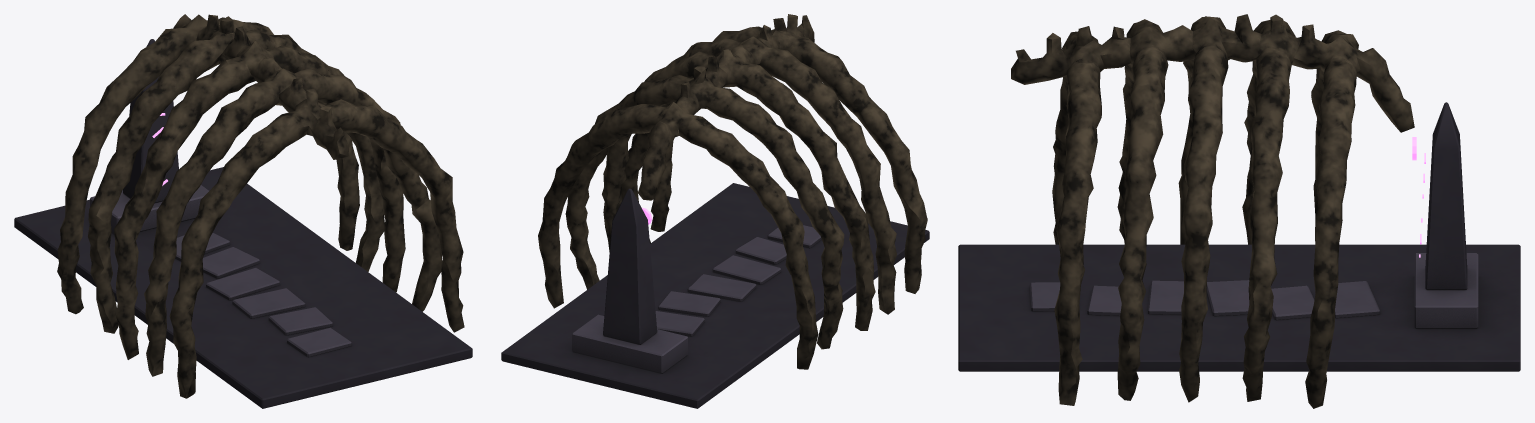
File: Arco_Costillas.fbx
3 renders of one model, left to right at view 1: azimuth 30°, elevation 25°; view 2: azimuth 150°, elevation 25°; view 3: azimuth 270°, elevation 25°, orthographic. The views are drawn at different scales.
Visible parts, largest first — view 1: Arco_Costillas, Arco_Costillas_Altar; view 2: Arco_Costillas, Arco_Costillas_Altar; view 3: Arco_Costillas, Arco_Costillas_Altar.
Boxes of the visible parts, x1,y1,x2,y2 form: Arco_Costillas: (57,14,464,398); Arco_Costillas_Altar: (14,39,472,408); Arco_Costillas: (538,14,927,369); Arco_Costillas_Altar: (501,183,929,408); Arco_Costillas: (1011,14,1414,408); Arco_Costillas_Altar: (958,102,1520,371).
Size of the model in its own units: 5.18 by 4.61 by 7.42.
Materials: 3 (2 with a texture image).
